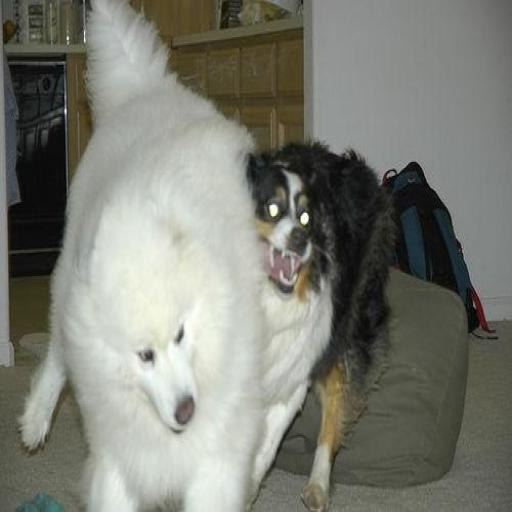dog_face: (245, 152, 328, 298)
